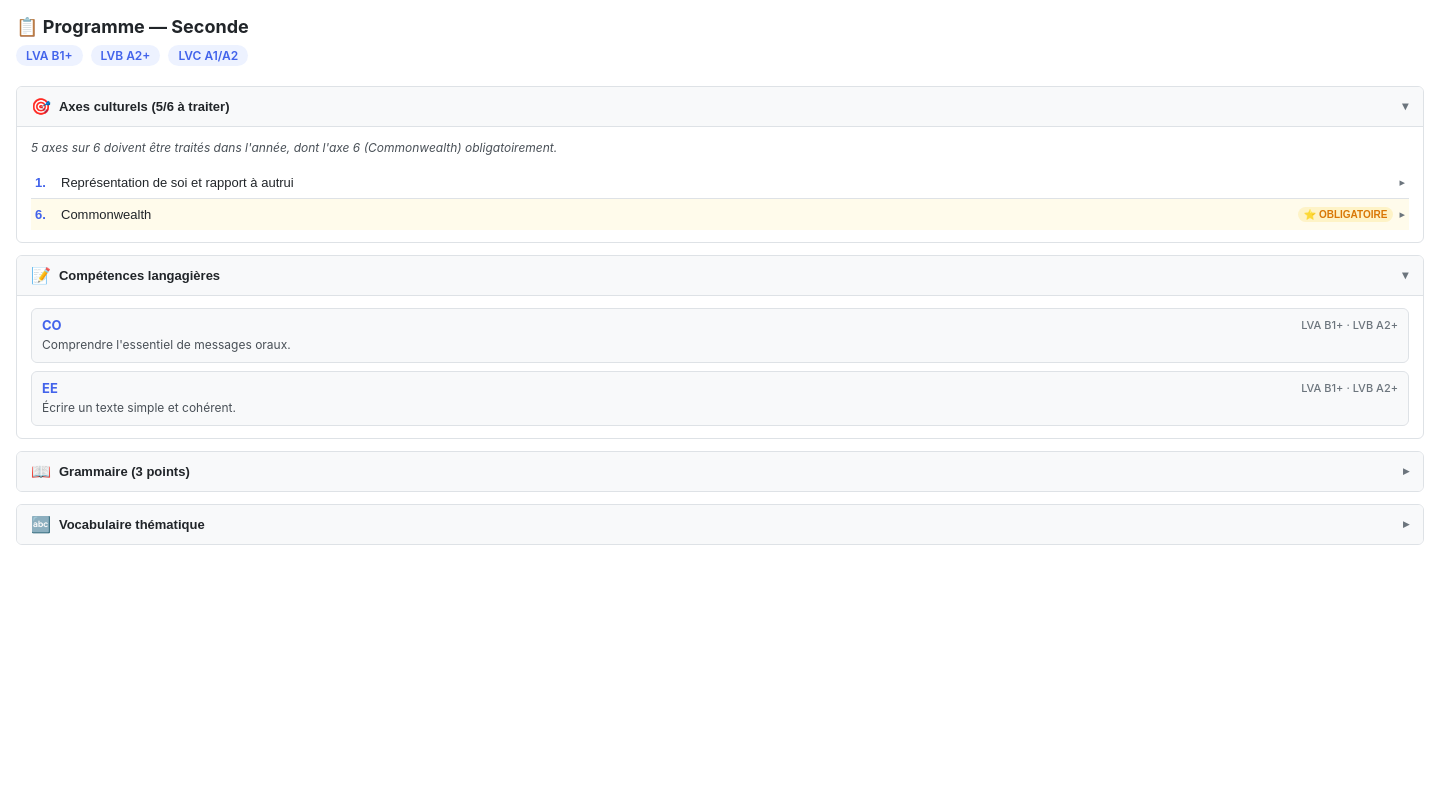
Test: ProgrammePanel › shows grammar points when section is expanded
The width and height of the screenshot is (1440, 810).
# Grammar section is closed by default — click to open
Step 1. Click the button "📖 Grammaire (3 points) ▸" → [124, 471], box [17,452,1423,491]
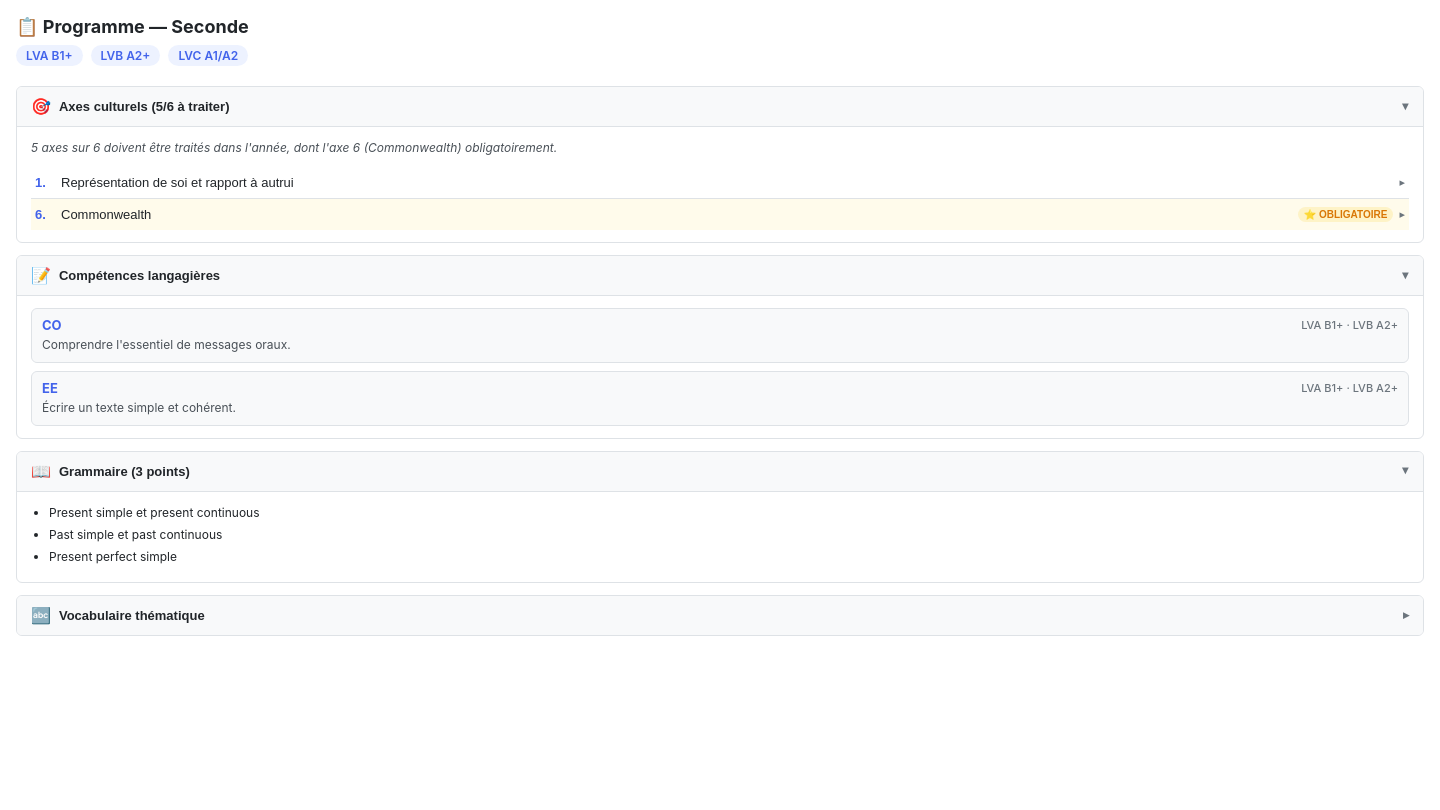
Expected: the list item "Present simple et present continuous" is shown, [49,505,260,520]
Expected: the list item "Past simple et past continuous" is shown, [49,527,222,542]
Expected: the list item "Present perfect simple" is shown, [49,549,177,564]
